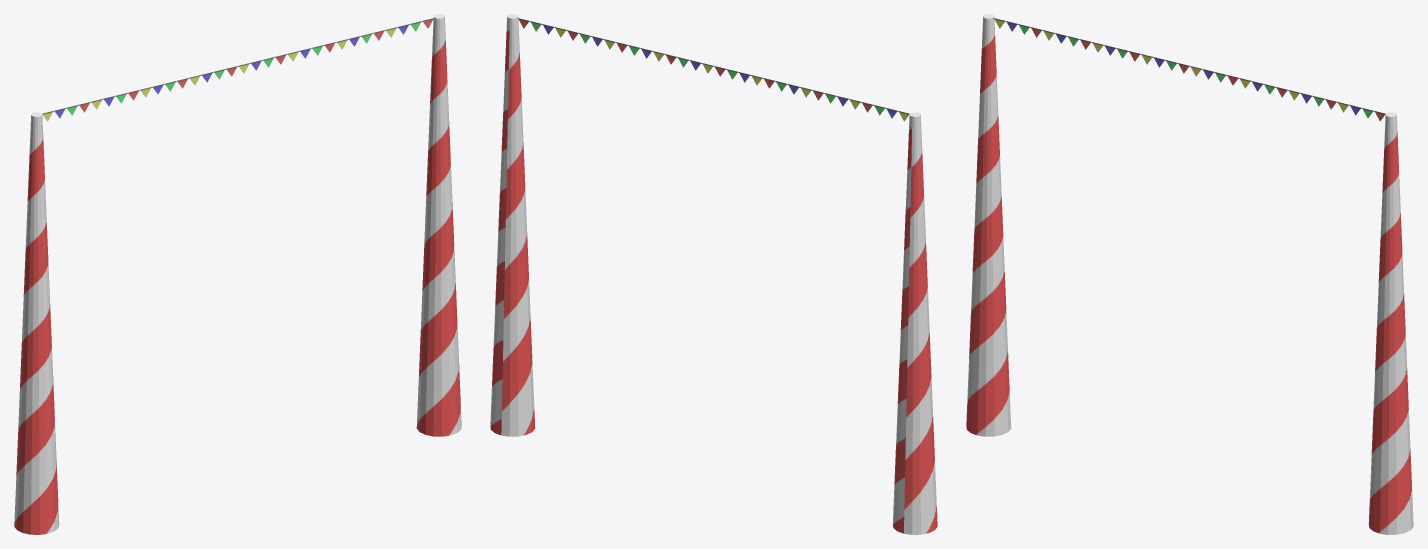
Rendered from String_Flags_1-1.fbx.
3 views of the same model, side by side, from view 1: azimuth 30°, elevation 25°; view 2: azimuth 150°, elevation 25°; view 3: azimuth 330°, elevation 25° (orthographic).
Parts seen in each view (by area): view 1: String_Flags_1-1; view 2: String_Flags_1-1; view 3: String_Flags_1-1.
Boxes of the visible parts, x1=… form: String_Flags_1-1: x1=14, y1=14, x2=461, y2=534; String_Flags_1-1: x1=490, y1=14, x2=937, y2=534; String_Flags_1-1: x1=966, y1=14, x2=1413, y2=534.
Size of the model in its own units: 450 by 400 by 40.
2 materials, 2 textured.
